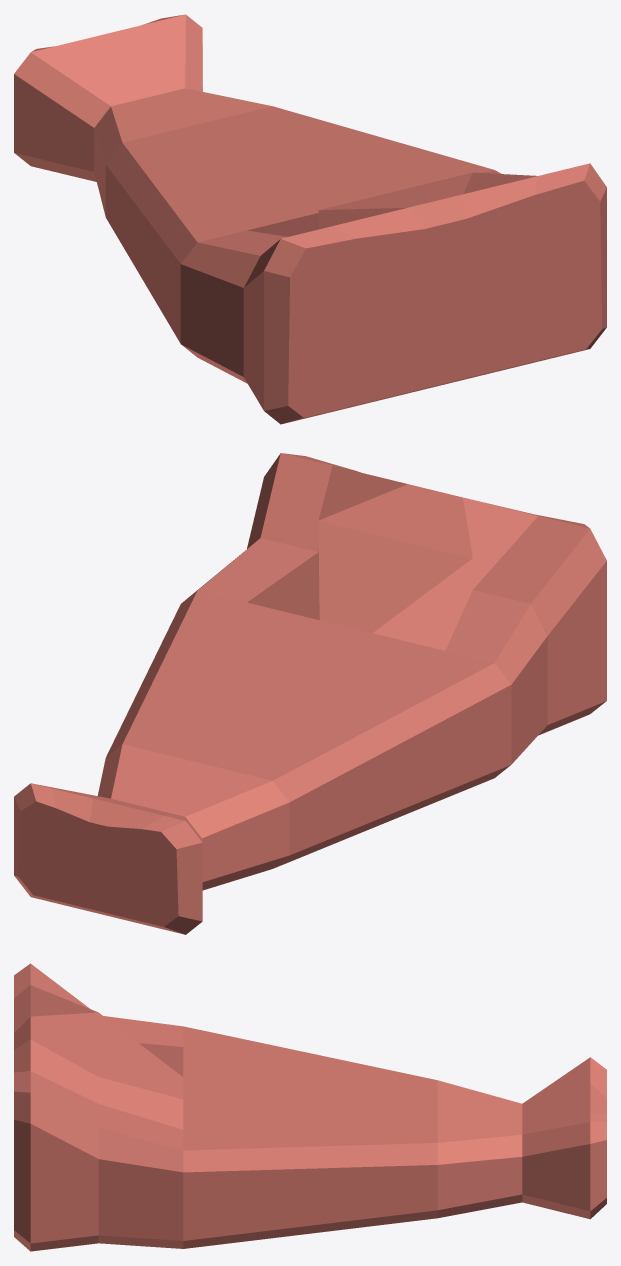
File: calder_heavy_b.glb
3 views of the same model, one above another, from view 1: azimuth 30°, elevation 25°; view 2: azimuth 150°, elevation 25°; view 3: azimuth 270°, elevation 25° (orthographic). The views are drawn at different scales.
Visible parts, largest first — view 1: calder_heavy_b; view 2: calder_heavy_b; view 3: calder_heavy_b.
Part boxes in pixels (left/top/right/bottom): calder_heavy_b: left=14, top=14, right=606, bottom=424; calder_heavy_b: left=14, top=453, right=606, bottom=934; calder_heavy_b: left=14, top=963, right=606, bottom=1251.
Bounding box in the file's own units: 4 × 2.07 × 7.
